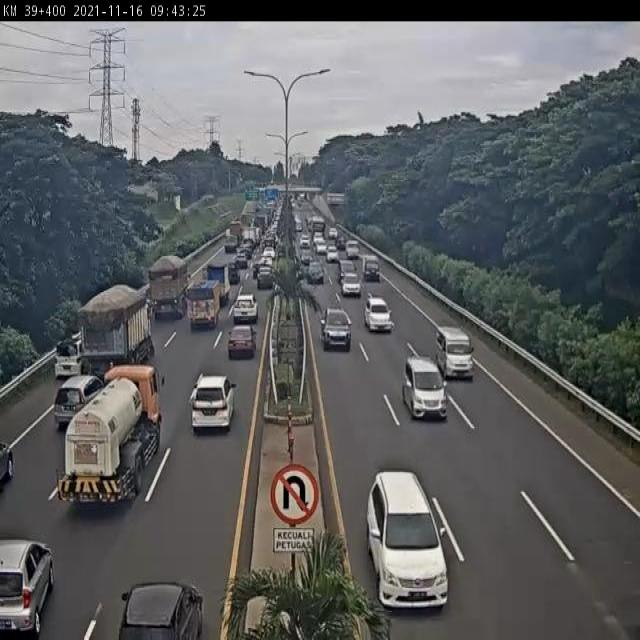Bus: (310, 216, 326, 244)
Car: (364, 471, 450, 612), (0, 539, 54, 637), (116, 580, 204, 640), (402, 353, 448, 420), (54, 374, 107, 429), (190, 373, 236, 432), (320, 307, 352, 352), (53, 337, 85, 378), (363, 295, 392, 332), (227, 324, 256, 360), (232, 293, 259, 326), (0, 439, 15, 491), (340, 270, 360, 297), (338, 259, 357, 283), (307, 261, 325, 285), (256, 267, 274, 290), (234, 249, 248, 269), (346, 240, 360, 259), (229, 263, 241, 285), (300, 249, 313, 268), (315, 238, 327, 256), (326, 246, 339, 262), (312, 231, 324, 246), (300, 234, 310, 250), (336, 236, 346, 250), (328, 228, 338, 240)
Truck: (55, 362, 166, 506), (77, 283, 157, 373), (147, 252, 191, 319), (186, 277, 222, 330), (205, 262, 233, 302), (360, 253, 380, 284), (224, 233, 238, 254), (229, 221, 241, 239)
Van: (434, 325, 474, 380)
